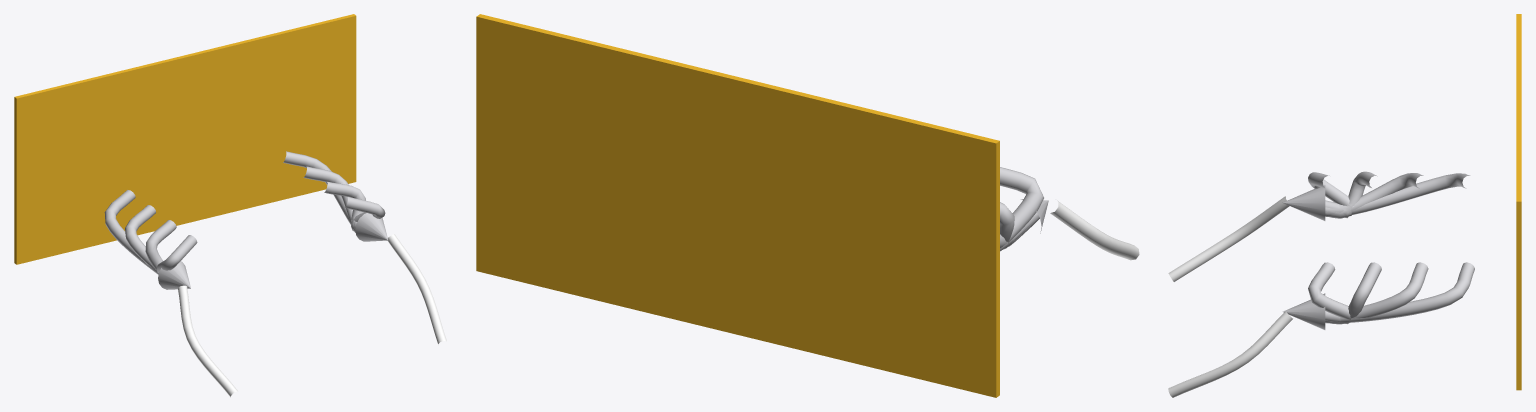
File: inconel_exhaust_headers.glb
3 renders of one model, left to right at view 1: azimuth 30°, elevation 25°; view 2: azimuth 150°, elevation 25°; view 3: azimuth 270°, elevation 25°, orthographic. The views are drawn at different scales.
Visible parts, largest first — view 1: Inconel_Exhaust_Headers_Assembly; view 2: Inconel_Exhaust_Headers_Assembly; view 3: Inconel_Exhaust_Headers_Assembly.
Part boxes in pixels (bbox=[...]): Inconel_Exhaust_Headers_Assembly: bbox=[14, 14, 446, 397]; Inconel_Exhaust_Headers_Assembly: bbox=[476, 14, 1139, 397]; Inconel_Exhaust_Headers_Assembly: bbox=[1168, 14, 1521, 397].
Size of the model in its own units: 1.24 by 0.7137 by 0.9858.
